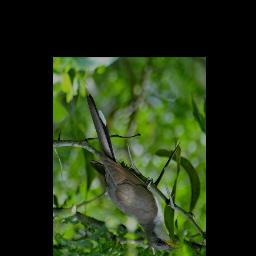Cuckoo: (86, 94, 180, 251)
